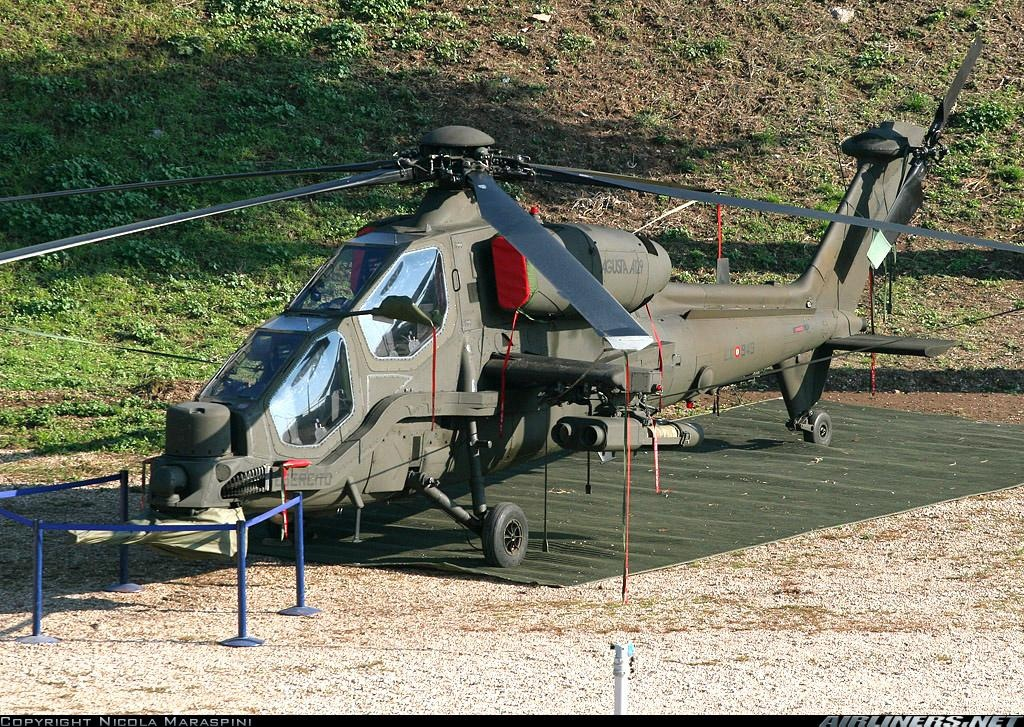airplane: (1, 40, 1014, 568)
